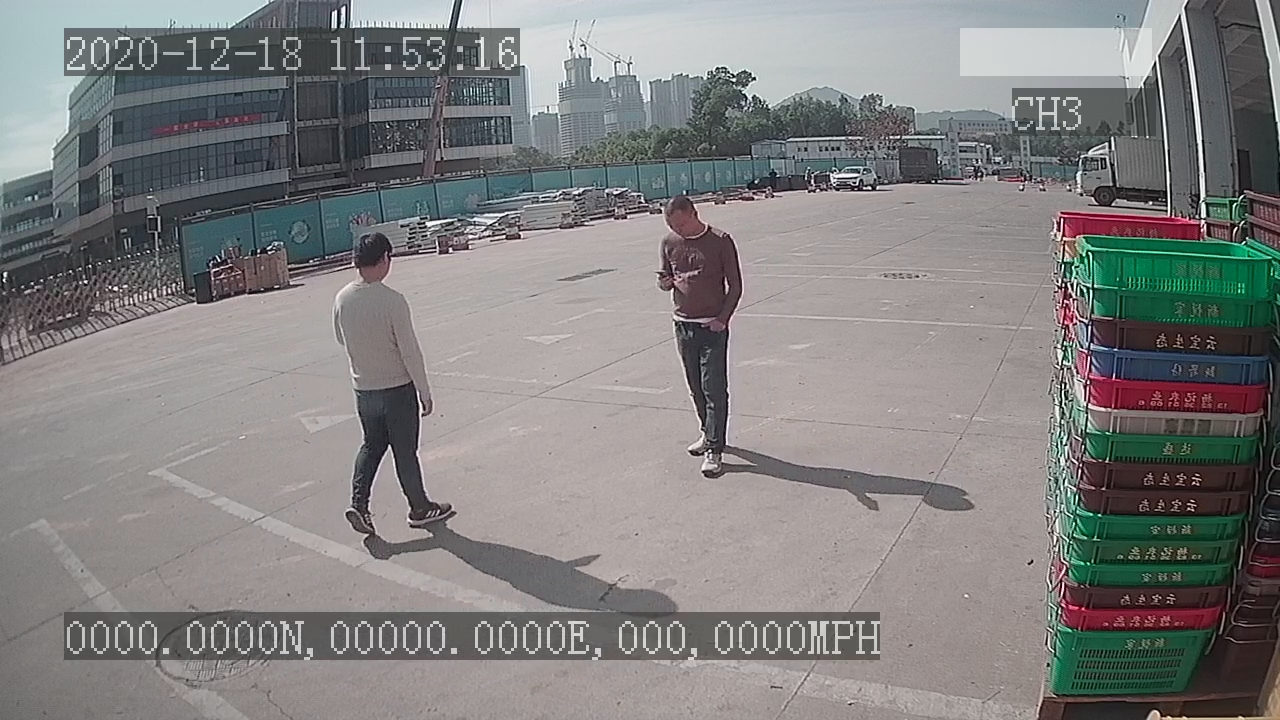person: (324, 219, 459, 544), (642, 188, 756, 490)
